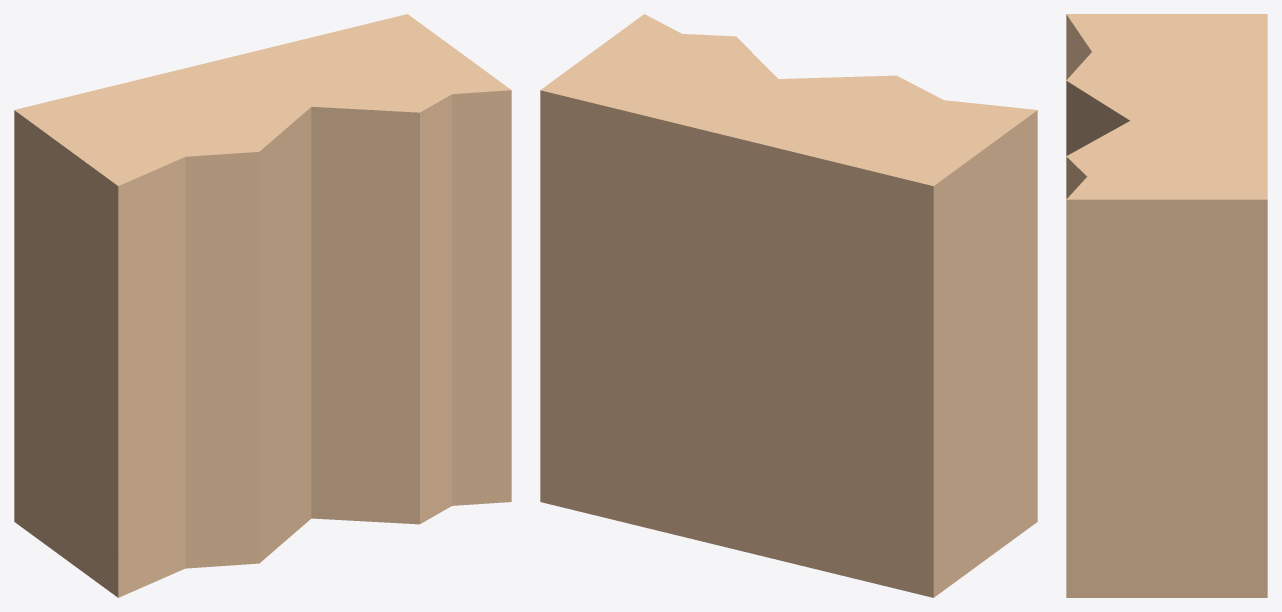
The model's file is cliffBrown.glb.
3 renders of one model, left to right at view 1: azimuth 30°, elevation 25°; view 2: azimuth 150°, elevation 25°; view 3: azimuth 270°, elevation 25°, orthographic. The views are drawn at different scales.
Visible parts, largest first — view 1: cliffBrown; view 2: cliffBrown; view 3: cliffBrown.
Boxes of the visible parts, x1,y1,x2,y2 form: cliffBrown: (14,14,511,597); cliffBrown: (540,14,1037,597); cliffBrown: (1066,14,1267,597).
Size of the model in its own units: 1 by 1 by 0.4584.
